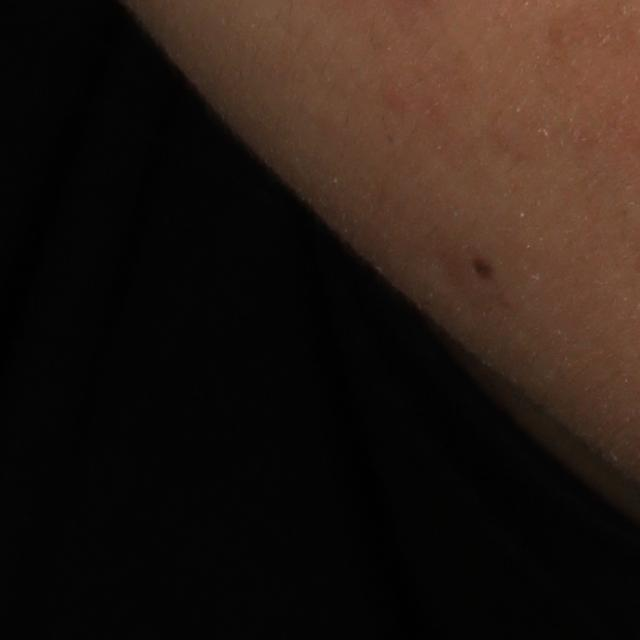nevus: (470, 261, 494, 280)
